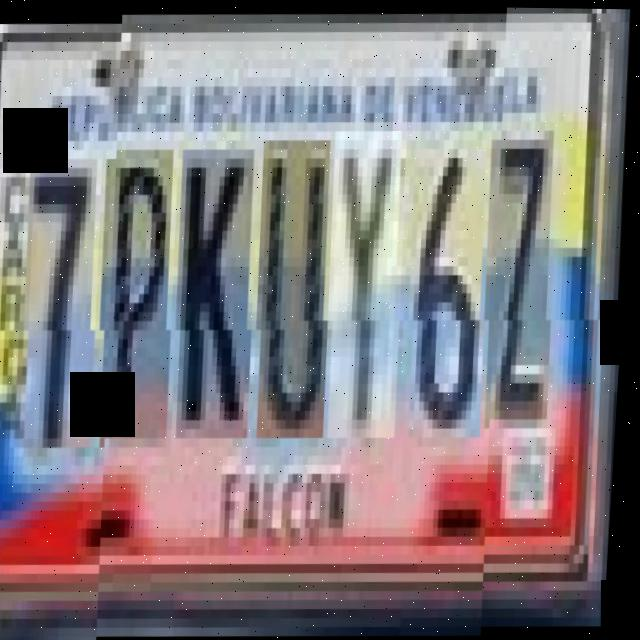6: (409, 146, 497, 437)
7: (24, 148, 109, 439)
K: (176, 147, 265, 438)
P: (100, 148, 185, 439)
U: (257, 138, 342, 438)
Y: (327, 129, 414, 437)
Z: (484, 136, 565, 427)
